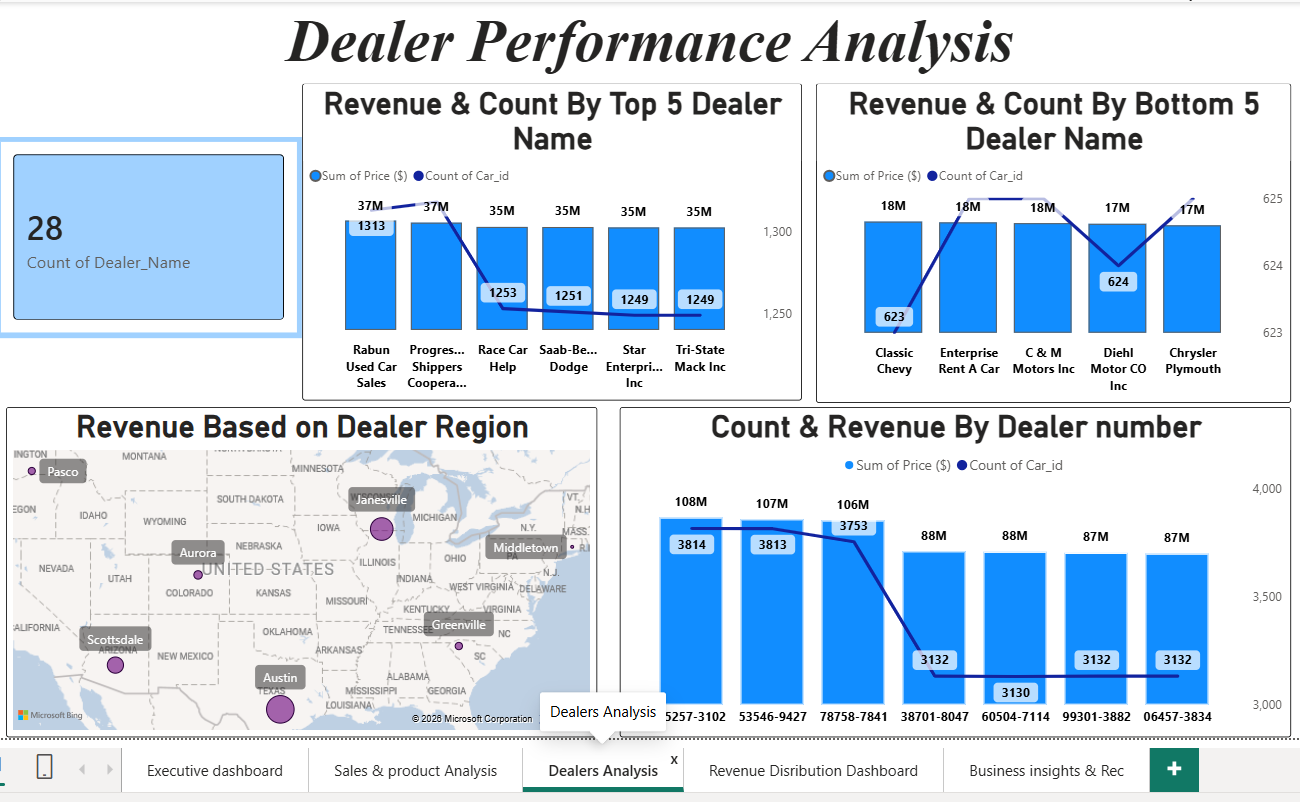

This screenshot's page, from the dashboard's own definition file:
{"tool":"powerbi","page":{"name":"Dealers Analysis","canvas":[1280,720],"ordinal":2},"visuals":[{"type":"lineStackedColumnComboChart","title":"Revenue & Count By Top 5 Dealer Name","fields":{"Category":["car_data.Dealer_Name"],"Y":["Sum(car_data.Price ($))"],"Y2":["CountNonNull(car_data.Car_id)"]},"box":[299.1,79.6,488.5,310.1],"z":0},{"type":"lineStackedColumnComboChart","title":"Revenue & Count By Bottom 5 Dealer Name","fields":{"Category":["car_data.Dealer_Name"],"Y":["Sum(car_data.Price ($))"],"Y2":["CountNonNull(car_data.Car_id)"]},"box":[802.7,79.6,465.2,312.9],"z":1000},{"type":"map","title":"Revenue Based on Dealer Region","fields":{"Category":["car_data.Dealer_Region"],"Size":["Sum(car_data.Price ($))"]},"box":[10,396.3,578.7,323.6],"z":2000},{"type":"textbox","box":[0,0,1280,79.8],"z":3000},{"type":"cardVisual","fields":{"Data":["Count(car_data.Dealer_Name)"]},"box":[0,132.6,299.3,196.7],"z":4000},{"type":"lineStackedColumnComboChart","title":"Count & Revenue By Dealer number","fields":{"Category":["car_data.Dealer_No "],"Y":["Sum(car_data.Price ($))"],"Y2":["CountNonNull(car_data.Car_id)"]},"box":[610.1,396.3,657.1,323.6],"z":5000}]}

Visuals, with their boxes on the page's 1280x720 design canvas (x1, y1, x2, y2). These are canvas units, not pixel positions in the 1300x802 screenshot, which may show the page scaled, cropped or inside an application window:
"Revenue & Count By Top 5 Dealer Name" lineStackedColumnComboChart: l=299, t=80, r=788, b=390
"Revenue & Count By Bottom 5 Dealer Name" lineStackedColumnComboChart: l=803, t=80, r=1268, b=392
"Revenue Based on Dealer Region" map: l=10, t=396, r=589, b=720
textbox: l=0, t=0, r=1280, b=80
cardVisual - Count(car_data.Dealer_Name): l=0, t=133, r=299, b=329
"Count & Revenue By Dealer number" lineStackedColumnComboChart: l=610, t=396, r=1267, b=720
